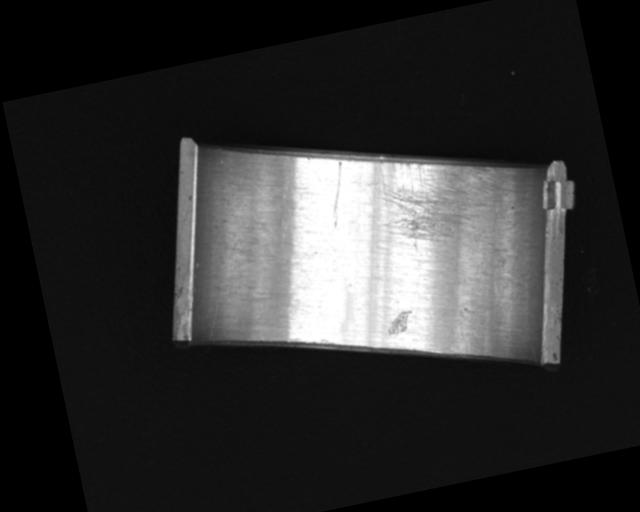bruise: (384, 309, 416, 336)
nick: (191, 239, 257, 341), (319, 159, 354, 227)
scratch: (368, 135, 507, 257)
